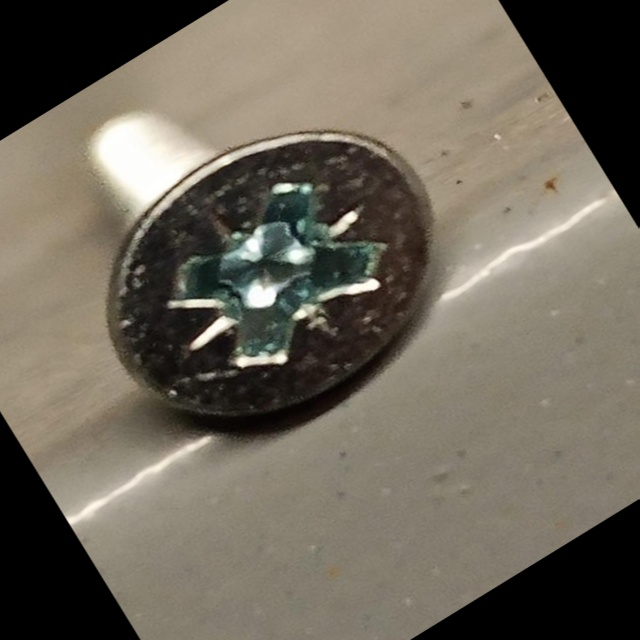pozidriv: (55, 70, 495, 480)
